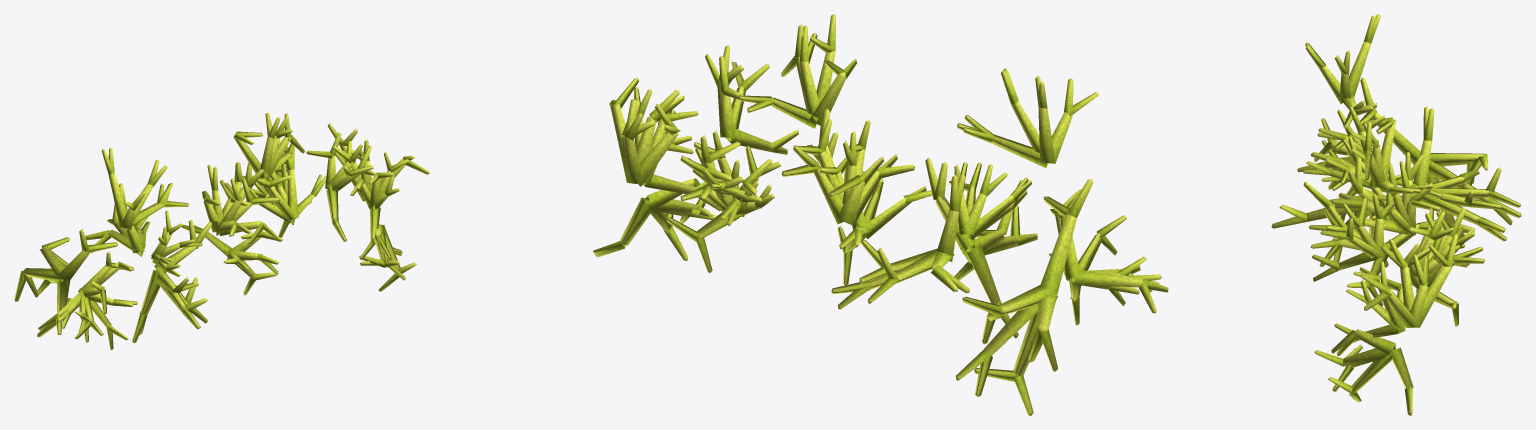
Rendered from wolflichenfruit.glb.
3 renders of one model, left to right at view 1: azimuth 30°, elevation 25°; view 2: azimuth 150°, elevation 25°; view 3: azimuth 270°, elevation 25°, orthographic. The views are drawn at different scales.
Visible parts, largest first — view 1: wolflichenfruit; view 2: wolflichenfruit; view 3: wolflichenfruit.
Part boxes in pixels (x1,y1,x2,y2): wolflichenfruit: (14,113,429,349); wolflichenfruit: (593,14,1168,415); wolflichenfruit: (1271,14,1521,415).
Size of the model in its own units: 0.7651 by 0.3324 by 0.3065.
1 material, 1 textured.
